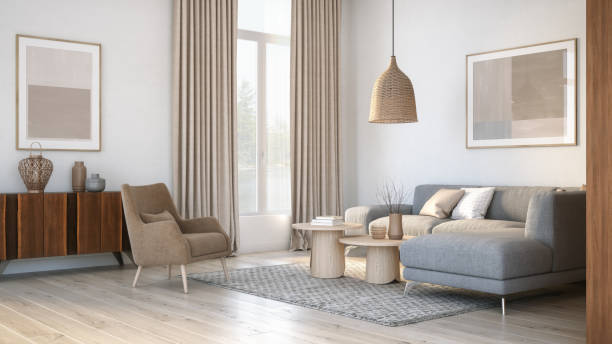chair: (120, 180, 233, 294)
flower vase: (377, 180, 410, 238)
sofa: (343, 179, 585, 317)
table: (290, 217, 363, 281), (339, 233, 412, 284)
wall art: (462, 37, 580, 148), (13, 30, 103, 152)
